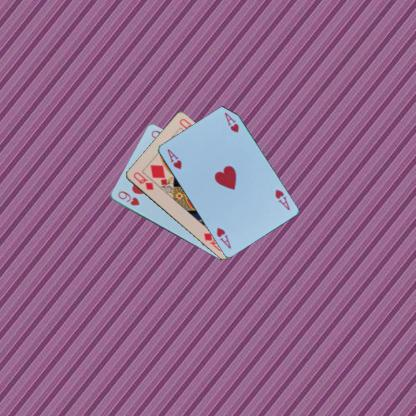9h: (115, 188, 141, 207)
Ah: (272, 186, 291, 212), (164, 146, 183, 171)
Qd: (130, 170, 155, 192)
